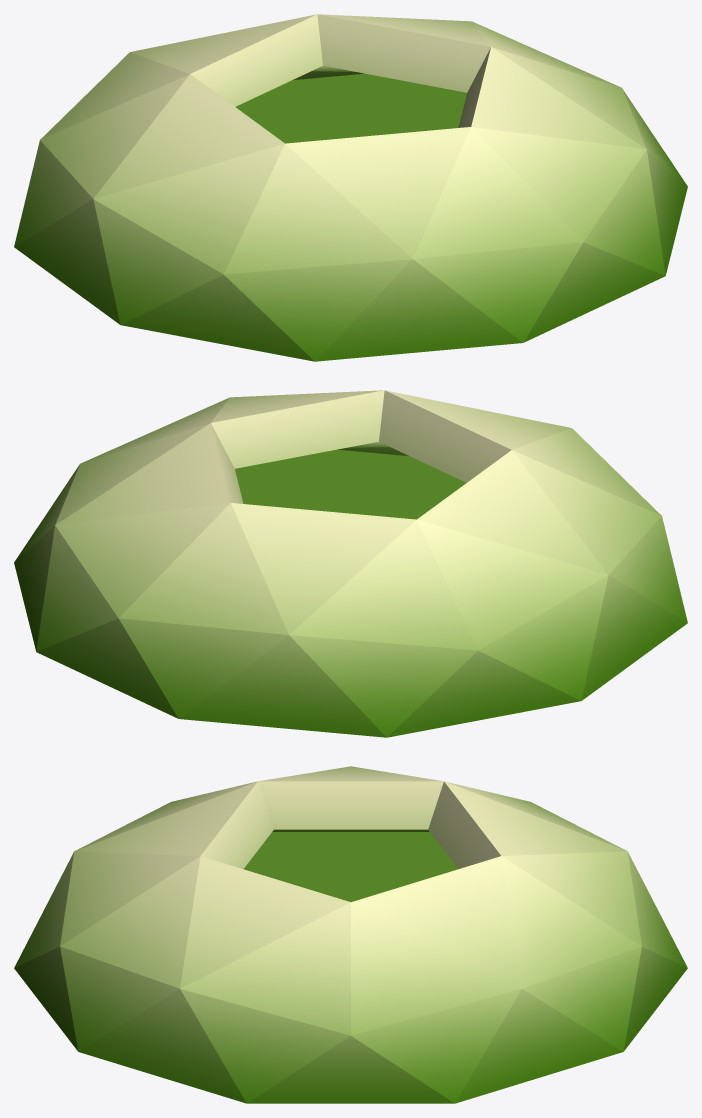
The model's file is TreeBase_Bush_LightGreen.fbx.
3 renders of one model, top to bottom at view 1: azimuth 30°, elevation 25°; view 2: azimuth 150°, elevation 25°; view 3: azimuth 270°, elevation 25°, orthographic. The views are drawn at different scales.
Visible parts, largest first — view 1: TreeBase_Bush_LightGreen; view 2: TreeBase_Bush_LightGreen; view 3: TreeBase_Bush_LightGreen.
Boxes of the visible parts, x1,y1,x2,y2 form: TreeBase_Bush_LightGreen: (14,14,687,361); TreeBase_Bush_LightGreen: (14,390,687,737); TreeBase_Bush_LightGreen: (14,766,687,1103).
Size of the model in its own units: 265 by 60.58 by 279.
